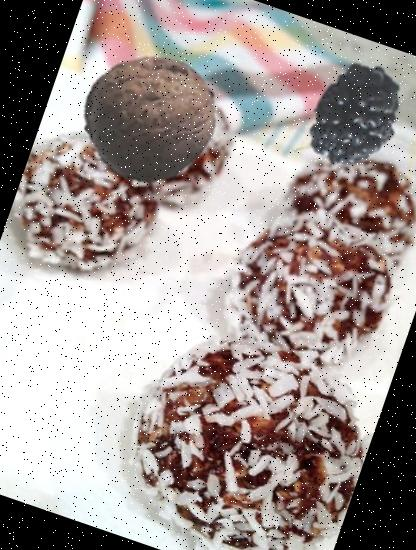Mulberry: (274, 41, 416, 210)
Walnut: (65, 32, 238, 206)
